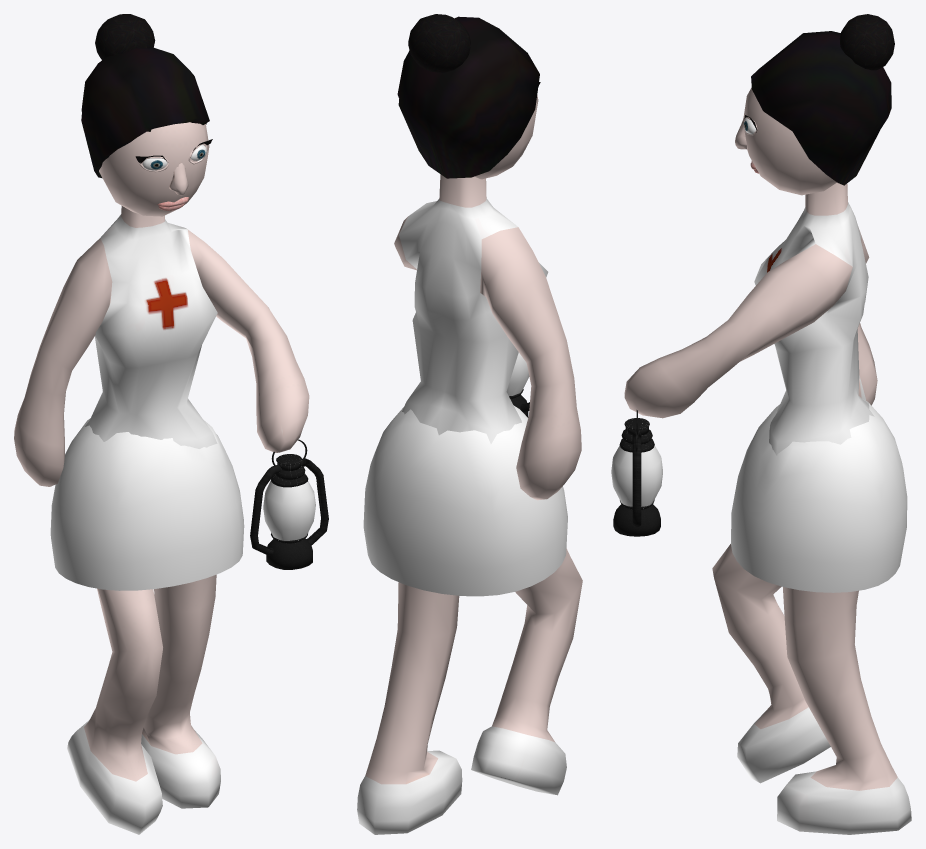
Rendered from walking_000009.obj.
3 views of the same model, side by side, from view 1: azimuth 30°, elevation 25°; view 2: azimuth 150°, elevation 25°; view 3: azimuth 270°, elevation 25° (orthographic). The views are drawn at different scales.
Visible parts, largest first — view 1: Cube_Cube.001, Cube.001_Cube, Cube.004; view 2: Cube_Cube.001, Cube.001_Cube, Cube.004; view 3: Cube_Cube.001, Cube.001_Cube, Cube.004.
Boxes of the visible parts, x1=… form: Cube_Cube.001: x1=14, y1=14, x2=309, y2=834; Cube.001_Cube: x1=50, y1=418, x2=244, y2=590; Cube.004: x1=250, y1=439, x2=328, y2=569; Cube_Cube.001: x1=357, y1=14, x2=582, y2=834; Cube.001_Cube: x1=363, y1=406, x2=567, y2=596; Cube.004: x1=506, y1=352, x2=529, y2=417; Cube_Cube.001: x1=624, y1=14, x2=911, y2=834; Cube.001_Cube: x1=731, y1=399, x2=907, y2=592; Cube.004: x1=611, y1=410, x2=662, y2=536.
Bounding box in the file's own units: 0.5861 × 2.07 × 0.7183.
